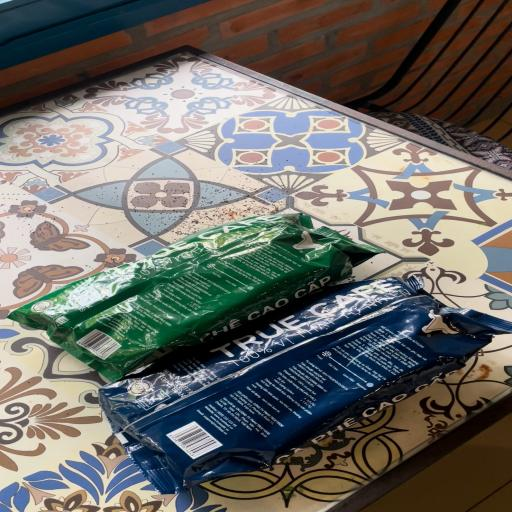cafe_hat: (98, 276, 512, 493)
cafe_xay: (8, 212, 381, 381)
